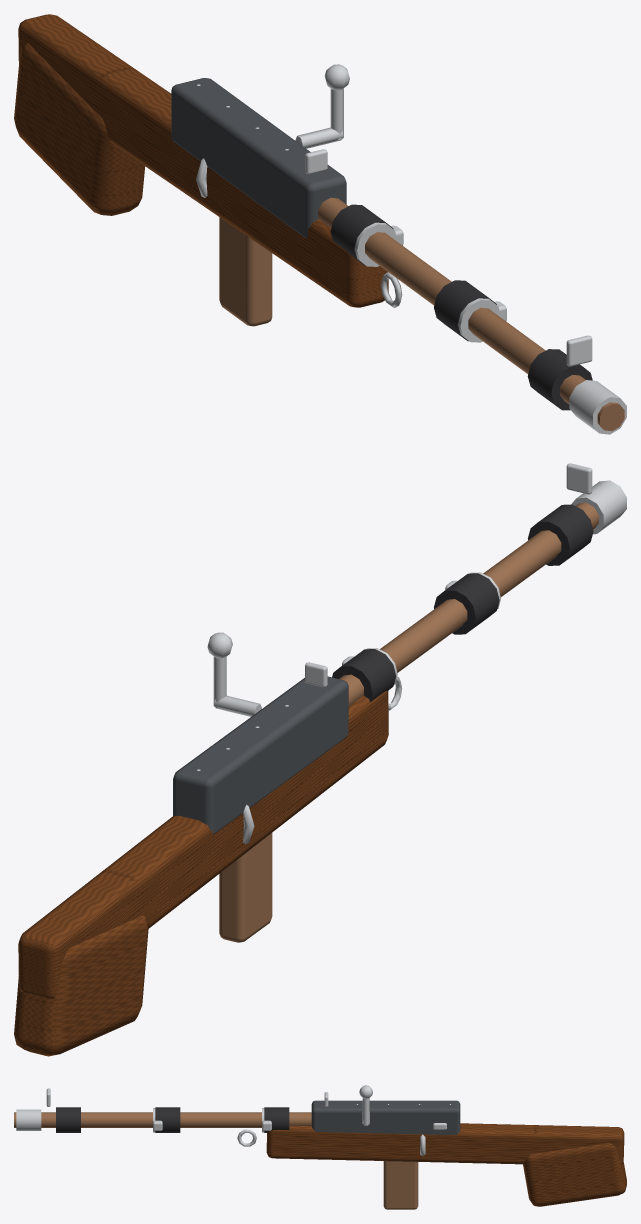
The model's file is fps-survival-forest-outpost-weapon-scrap-rifle-b357ed81__32652.glb.
3 views of the same model, one above another, from view 1: azimuth 30°, elevation 25°; view 2: azimuth 150°, elevation 25°; view 3: azimuth 270°, elevation 25° (orthographic). The views are drawn at different scales.
Visible parts, largest first — view 1: weapon-scrap-rifle, magazine/rust, bolt; view 2: weapon-scrap-rifle, magazine/rust, bolt; view 3: weapon-scrap-rifle, magazine/rust, bolt.
Boxes of the visible parts, left/top/right/bottom form: weapon-scrap-rifle: left=14, top=14, right=626, bottom=434; magazine/rust: left=219, top=217, right=272, bottom=326; bolt: left=295, top=64, right=349, bottom=148; weapon-scrap-rifle: left=14, top=463, right=626, bottom=1056; magazine/rust: left=219, top=833, right=272, bottom=942; bolt: left=207, top=632, right=261, bottom=716; weapon-scrap-rifle: left=14, top=1088, right=626, bottom=1206; magazine/rust: left=383, top=1161, right=418, bottom=1209; bolt: left=359, top=1085, right=372, bottom=1125.
Size of the model in its own units: 0.122 by 0.305 by 1.24.
Materials: 5 (1 with a texture image).
